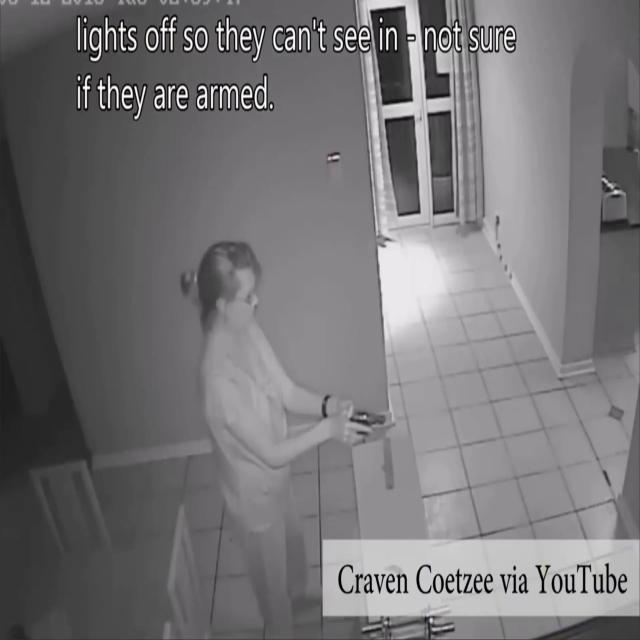gun: (344, 406, 388, 446)
